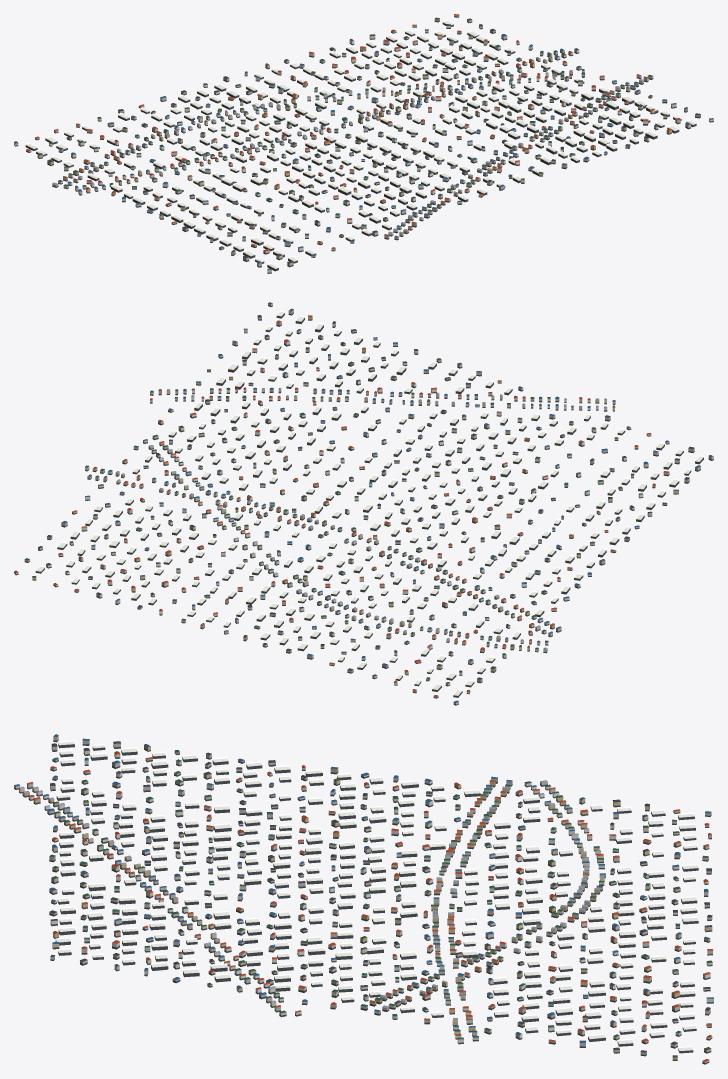
File: buildings_T_W01_N07.glb
3 renders of one model, top to bottom at view 1: azimuth 30°, elevation 25°; view 2: azimuth 150°, elevation 25°; view 3: azimuth 270°, elevation 25°, orthographic. The views are drawn at different scales.
Parts seen in each view (by area): view 1: T_W01_N07_slope_seating_foundations, T_W01_N07_roofs_agri_greenhouse_arch, T_W01_N07_walls_wall_pastel_sand_gray, T_W01_N07_walls_wall_french_ochre_villa, T_W01_N07_walls_wall_dalat_cream_stucco, T_W01_N07_walls_wall_modern_warm_white, T_W01_N07_roofs_roof_terracotta_gable, T_W01_N07_roofs_roof_pine_green_hip, T_W01_N07_roofs_roof_highland_blue_gable, T_W01_N07_roofs_roof_slate_French_villa_hip, T_W01_N07_roofs_roof_zinc_silver_gable; view 2: T_W01_N07_slope_seating_foundations, T_W01_N07_roofs_agri_greenhouse_arch, T_W01_N07_walls_wall_dalat_cream_stucco, T_W01_N07_walls_wall_french_ochre_villa, T_W01_N07_walls_wall_pastel_sand_gray, T_W01_N07_walls_wall_modern_warm_white, T_W01_N07_roofs_roof_terracotta_gable, T_W01_N07_roofs_roof_pine_green_hip, T_W01_N07_roofs_roof_highland_blue_gable, T_W01_N07_roofs_roof_slate_French_villa_hip, T_W01_N07_roofs_roof_zinc_silver_gable; view 3: T_W01_N07_slope_seating_foundations, T_W01_N07_roofs_agri_greenhouse_arch, T_W01_N07_walls_wall_french_ochre_villa, T_W01_N07_walls_wall_pastel_sand_gray, T_W01_N07_walls_wall_dalat_cream_stucco, T_W01_N07_walls_wall_modern_warm_white, T_W01_N07_roofs_roof_terracotta_gable, T_W01_N07_roofs_roof_pine_green_hip, T_W01_N07_roofs_roof_highland_blue_gable, T_W01_N07_roofs_roof_slate_French_villa_hip, T_W01_N07_roofs_roof_zinc_silver_gable.
Part boxes in pixels (left/top/right/bottom): T_W01_N07_slope_seating_foundations: left=14, top=16, right=713, bottom=273; T_W01_N07_roofs_agri_greenhouse_arch: left=25, top=20, right=696, bottom=268; T_W01_N07_walls_wall_pastel_sand_gray: left=52, top=25, right=700, bottom=266; T_W01_N07_walls_wall_french_ochre_villa: left=35, top=19, right=671, bottom=255; T_W01_N07_walls_wall_dalat_cream_stucco: left=14, top=15, right=690, bottom=272; T_W01_N07_walls_wall_modern_warm_white: left=58, top=25, right=713, bottom=250; T_W01_N07_roofs_roof_terracotta_gable: left=26, top=14, right=680, bottom=251; T_W01_N07_roofs_roof_pine_green_hip: left=49, top=17, right=713, bottom=248; T_W01_N07_roofs_roof_highland_blue_gable: left=14, top=34, right=690, bottom=269; T_W01_N07_roofs_roof_slate_French_villa_hip: left=38, top=24, right=700, bottom=263; T_W01_N07_roofs_roof_zinc_silver_gable: left=52, top=56, right=643, bottom=233; T_W01_N07_slope_seating_foundations: left=14, top=305, right=713, bottom=705; T_W01_N07_roofs_agri_greenhouse_arch: left=35, top=310, right=703, bottom=695; T_W01_N07_walls_wall_dalat_cream_stucco: left=14, top=310, right=713, bottom=704; T_W01_N07_walls_wall_french_ochre_villa: left=24, top=316, right=678, bottom=697; T_W01_N07_walls_wall_pastel_sand_gray: left=38, top=316, right=700, bottom=692; T_W01_N07_walls_wall_modern_warm_white: left=46, top=303, right=658, bottom=665; T_W01_N07_roofs_roof_terracotta_gable: left=14, top=315, right=668, bottom=696; T_W01_N07_roofs_roof_pine_green_hip: left=24, top=302, right=667, bottom=683; T_W01_N07_roofs_roof_highland_blue_gable: left=62, top=308, right=712, bottom=702; T_W01_N07_roofs_roof_slate_French_villa_hip: left=38, top=315, right=694, bottom=679; T_W01_N07_roofs_roof_zinc_silver_gable: left=116, top=387, right=607, bottom=649; T_W01_N07_slope_seating_foundations: left=14, top=739, right=713, bottom=1064; T_W01_N07_roofs_agri_greenhouse_arch: left=55, top=740, right=698, bottom=1050; T_W01_N07_walls_wall_french_ochre_villa: left=22, top=745, right=712, bottom=1059; T_W01_N07_walls_wall_pastel_sand_gray: left=27, top=739, right=712, bottom=1054; T_W01_N07_walls_wall_dalat_cream_stucco: left=14, top=736, right=712, bottom=1063; T_W01_N07_walls_wall_modern_warm_white: left=28, top=760, right=713, bottom=1047; T_W01_N07_roofs_roof_terracotta_gable: left=27, top=751, right=713, bottom=1061; T_W01_N07_roofs_roof_pine_green_hip: left=49, top=750, right=712, bottom=1057; T_W01_N07_roofs_roof_highland_blue_gable: left=14, top=734, right=713, bottom=1042; T_W01_N07_roofs_roof_slate_French_villa_hip: left=49, top=741, right=712, bottom=1052; T_W01_N07_roofs_roof_zinc_silver_gable: left=19, top=780, right=604, bottom=1021.
Bounding box in the file's own units: 1949 × 397 × 1844.
